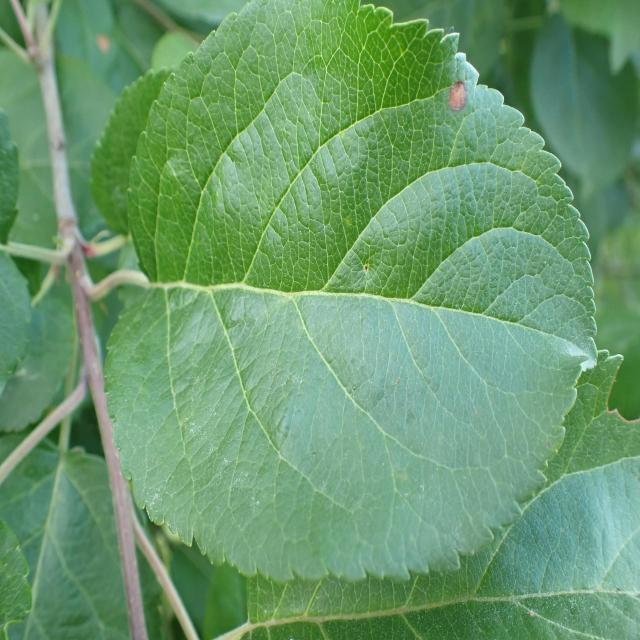Black Rot: (429, 61, 474, 130)
